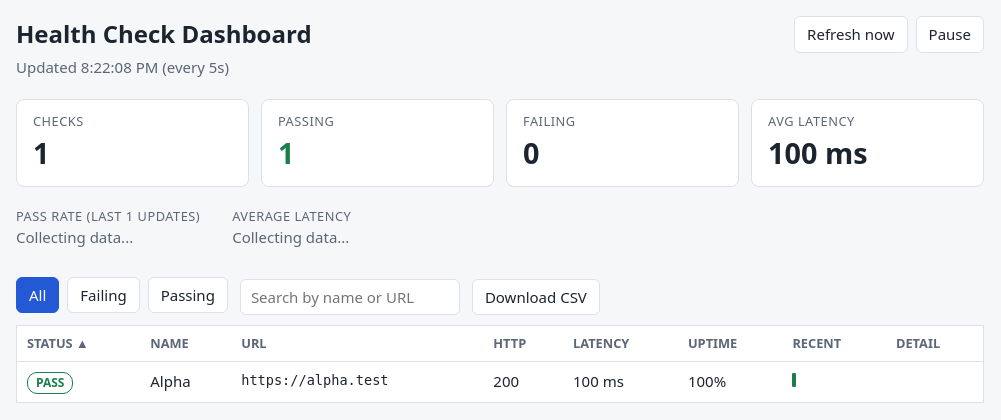
Scenario: disables the download when nothing is shown
Check: the table is shown, box [16,325,984,403]
What coordinates should you click on to do the following:
click the button "Failing"
I would click on:
 (103, 295)
Its box is [67,277,140,313].
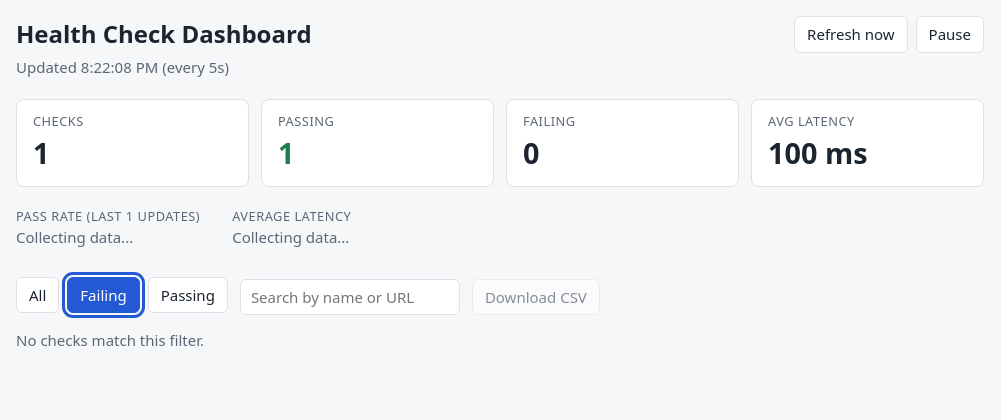
Check: the button "Download CSV" is disabled, box [472,279,600,315]
